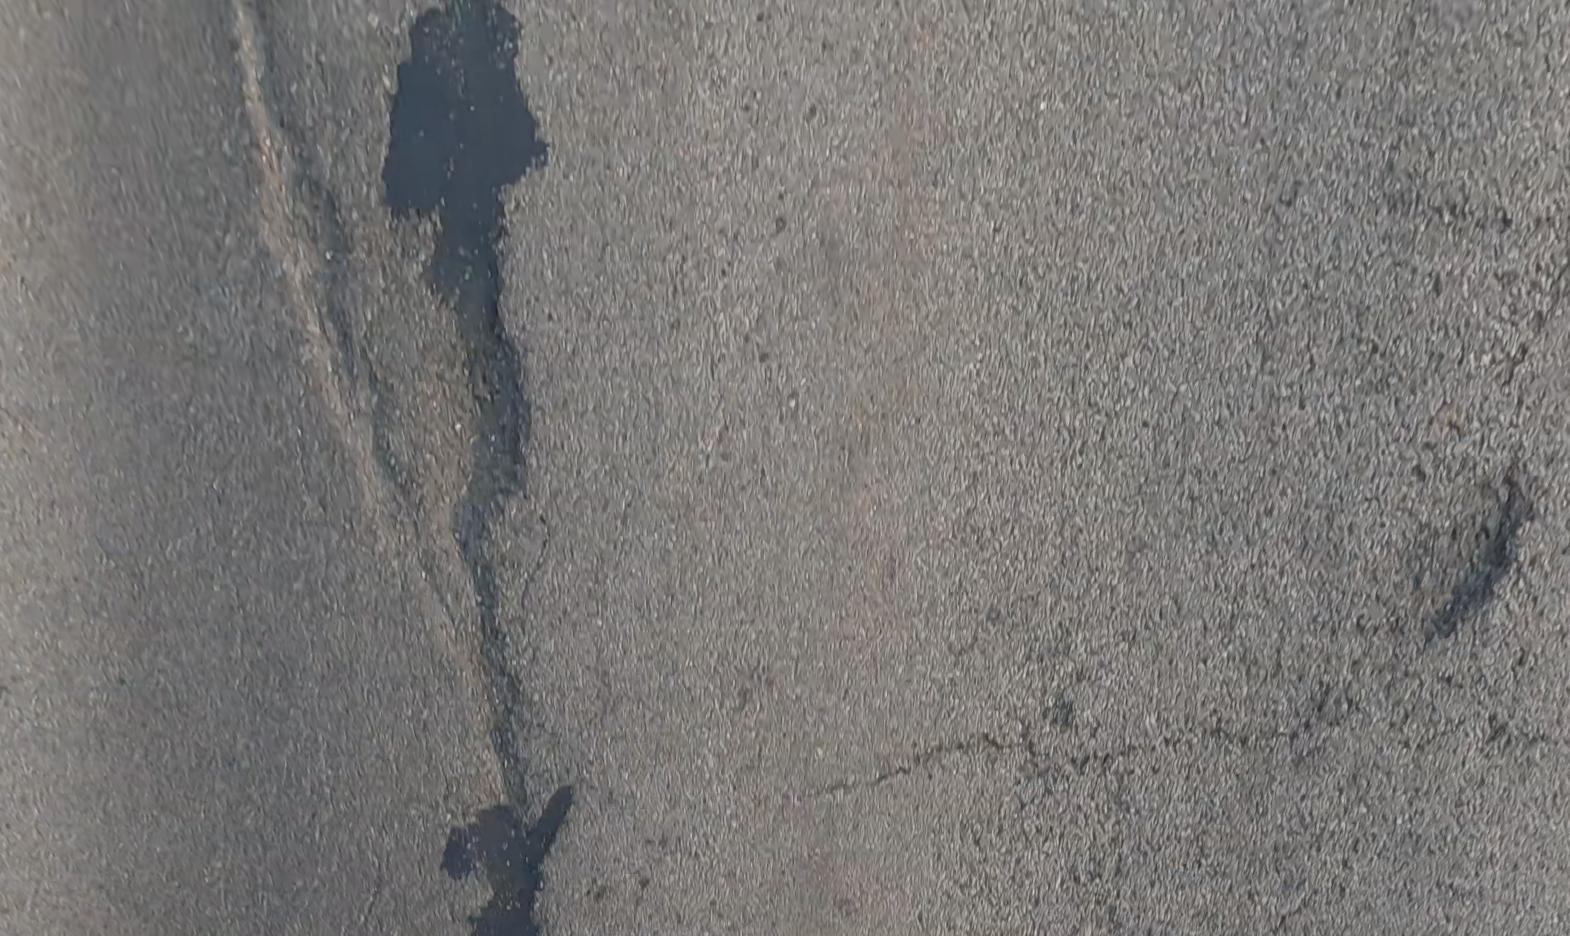pothole: (230, 0, 526, 809), (1415, 459, 1538, 645), (448, 279, 528, 563)
pothole_patch_good: (381, 0, 546, 298), (442, 786, 572, 936)
